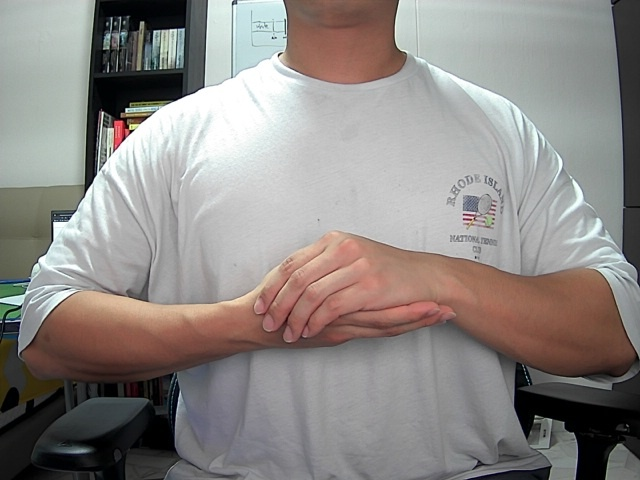Monkey: (226, 212, 471, 385)
